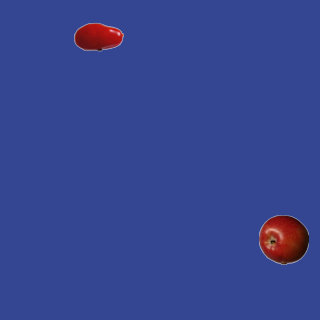Apple Braeburn: (258, 214, 308, 264)
Tomato 2: (73, 11, 123, 61)
